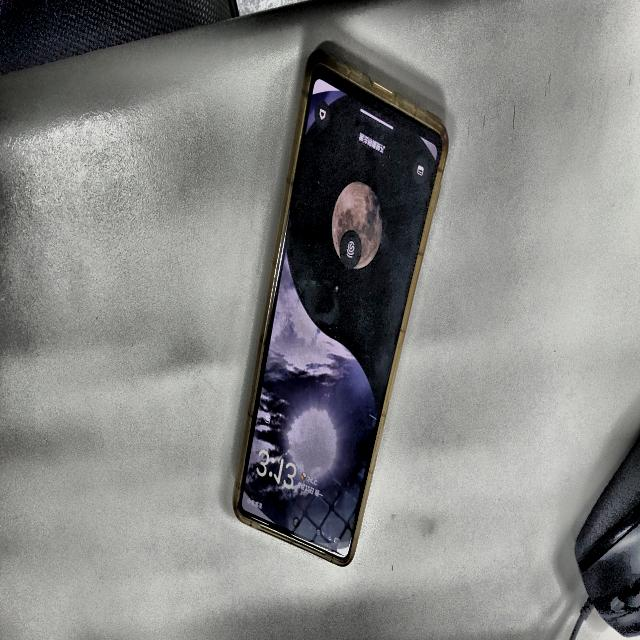PHONE: (234, 53, 448, 564)
